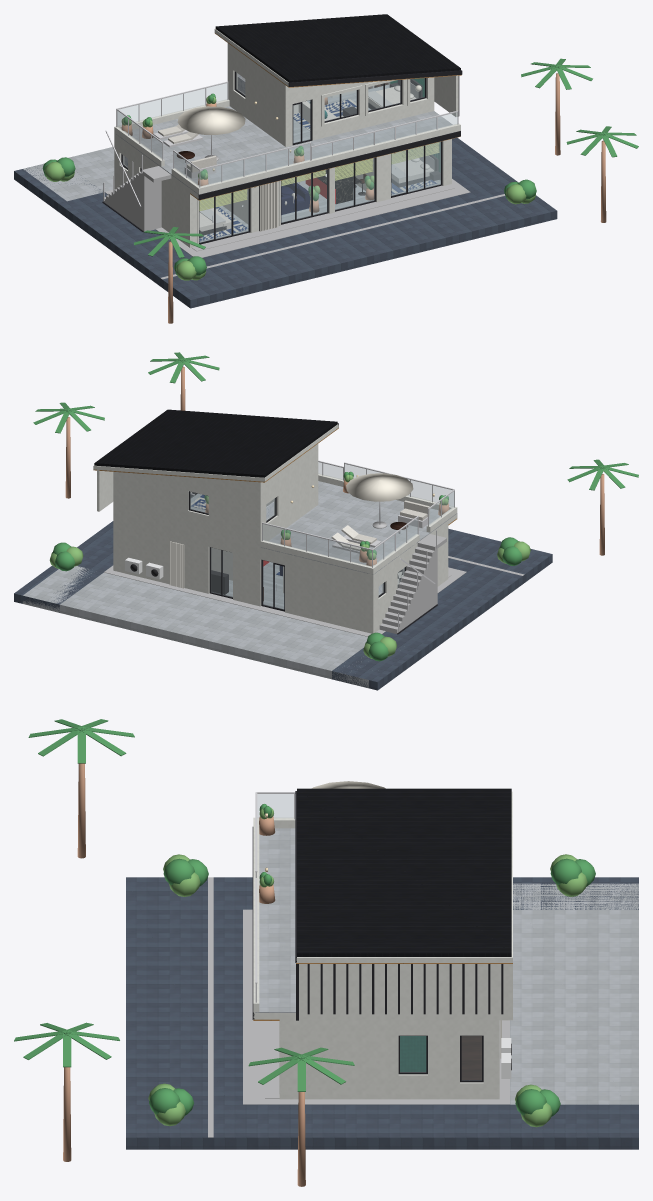
File: switch_villa.glb
3 views of the same model, one above another, from view 1: azimuth 30°, elevation 25°; view 2: azimuth 150°, elevation 25°; view 3: azimuth 270°, elevation 25° (orthographic). The views are drawn at different scales.
Visible parts, largest first — view 1: SITE__paving, ROOF__roof_dark, UPPER__wall_white, TERRACE__terrace_tile, SHELL__glass, TERRACE__glass, SITE__concrete, SHELL__wall_white, TERRACE__wall_white, SITE__leaf, SITE_STAIRS__concrete, SITE__terrace_tile (+26 smaller); view 2: SITE__terrace_tile, SHELL__wall_white, SITE__paving, UPPER__wall_white, ROOF__roof_dark, TERRACE__terrace_tile, TERRACE__glass, SITE__leaf, SITE_STAIRS__concrete, TERRACE__wall_white, SITE__concrete, ROOF__wall_white (+12 smaller); view 3: SITE__paving, ROOF__roof_dark, SITE__terrace_tile, SHELL__wall_white, ROOF__wall_white, SITE__leaf, SITE__concrete, TERRACE__terrace_tile, ROOF__trim_black, SITE__leaf_light, SITE__pot, SHELL__glass (+5 smaller).
Part boxes in pixels (x1,y1,x2,y2): SITE__paving: (14, 137, 557, 308); ROOF__roof_dark: (215, 14, 460, 82); UPPER__wall_white: (227, 43, 434, 146); TERRACE__terrace_tile: (116, 106, 460, 194); SHELL__glass: (122, 141, 440, 238); TERRACE__glass: (117, 83, 457, 186); SITE__concrete: (105, 179, 505, 279); SHELL__wall_white: (114, 90, 451, 247); TERRACE__wall_white: (114, 99, 460, 194); SITE__leaf: (42, 58, 638, 275); SITE_STAIRS__concrete: (103, 166, 171, 231); SITE__terrace_tile: (23, 147, 114, 201); SITE__terrace_tile: (22, 566, 368, 688); SHELL__wall_white: (113, 516, 448, 633); SITE__paving: (14, 521, 552, 690); UPPER__wall_white: (113, 444, 318, 547); ROOF__roof_dark: (94, 409, 337, 477); TERRACE__terrace_tile: (261, 481, 456, 574); TERRACE__glass: (263, 462, 453, 566); SITE__leaf: (33, 352, 638, 661); SITE_STAIRS__concrete: (379, 534, 446, 633); TERRACE__wall_white: (260, 473, 457, 574); SITE__concrete: (104, 556, 524, 636); ROOF__wall_white: (93, 424, 338, 511); SITE__paving: (126, 877, 638, 1149); ROOF__roof_dark: (297, 788, 511, 956); SITE__terrace_tile: (510, 883, 638, 1104); SHELL__wall_white: (279, 1019, 499, 1099); ROOF__wall_white: (296, 791, 512, 1020); SITE__leaf: (14, 719, 595, 1116); SITE__concrete: (208, 877, 509, 1137); TERRACE__terrace_tile: (253, 828, 295, 1012); ROOF__trim_black: (295, 791, 503, 1020); SITE__leaf_light: (148, 854, 587, 1127); SITE__pot: (63, 763, 305, 1186); SHELL__glass: (400, 1036, 481, 1080).
Size of what is drawn, in the model's own units: 30.04 by 8.02 by 21.31.
62 materials, 15 textured.
